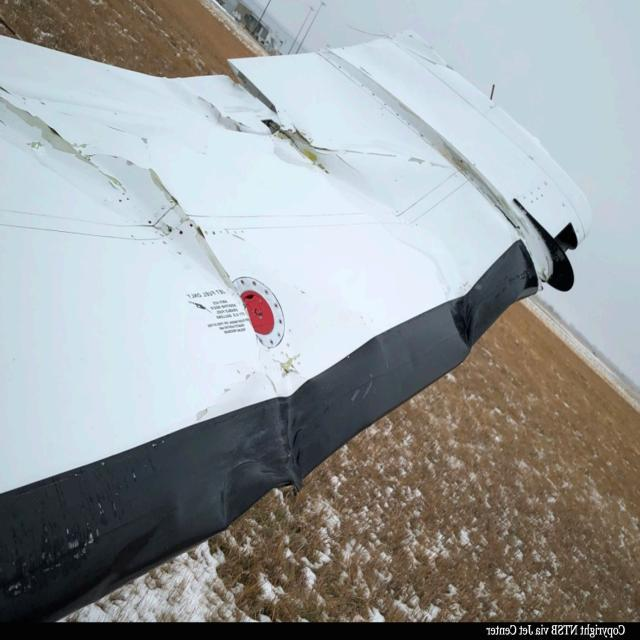crack: (2, 101, 239, 294), (260, 115, 330, 178)
dent: (332, 183, 503, 354), (235, 342, 319, 500)
